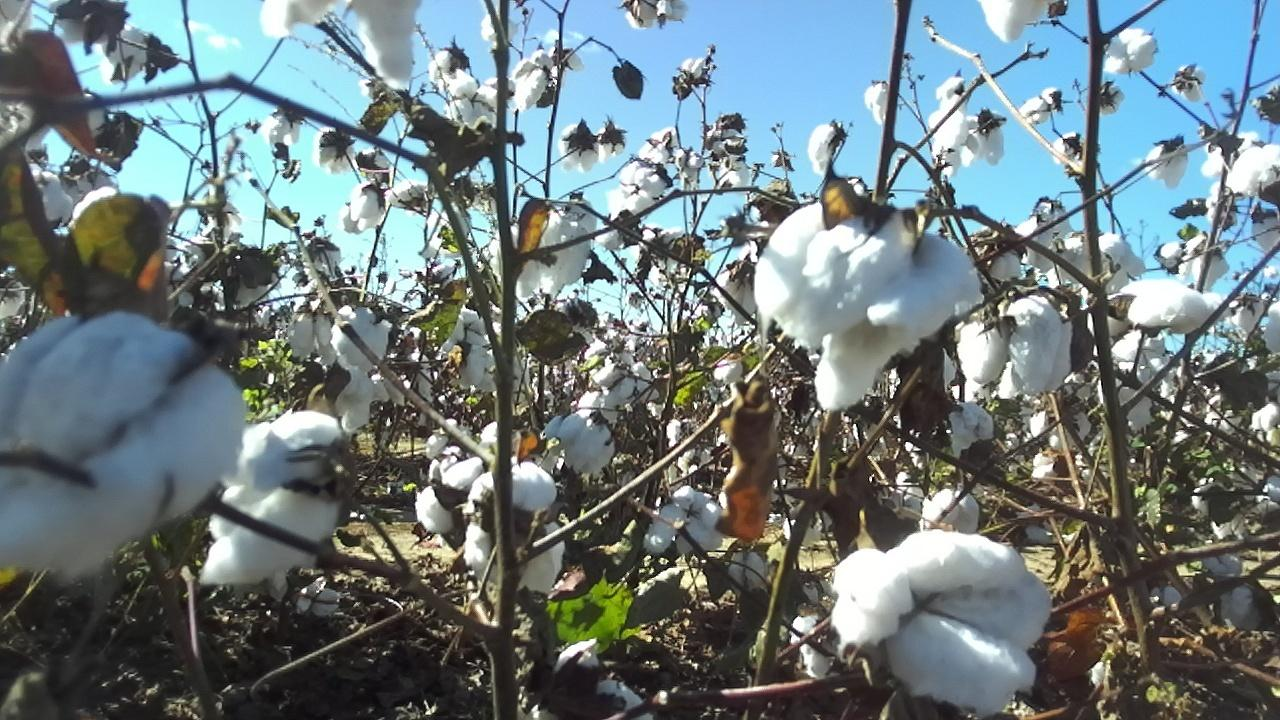cotton_ready: (0, 310, 252, 577), (753, 200, 987, 413), (832, 530, 1053, 715), (201, 410, 354, 586), (257, 0, 422, 90), (462, 459, 569, 594), (961, 289, 1075, 395), (489, 217, 590, 295), (1096, 282, 1227, 338), (415, 455, 487, 537), (656, 486, 723, 553), (332, 304, 394, 373), (553, 408, 617, 472), (1221, 141, 1280, 201), (974, 0, 1054, 42)
